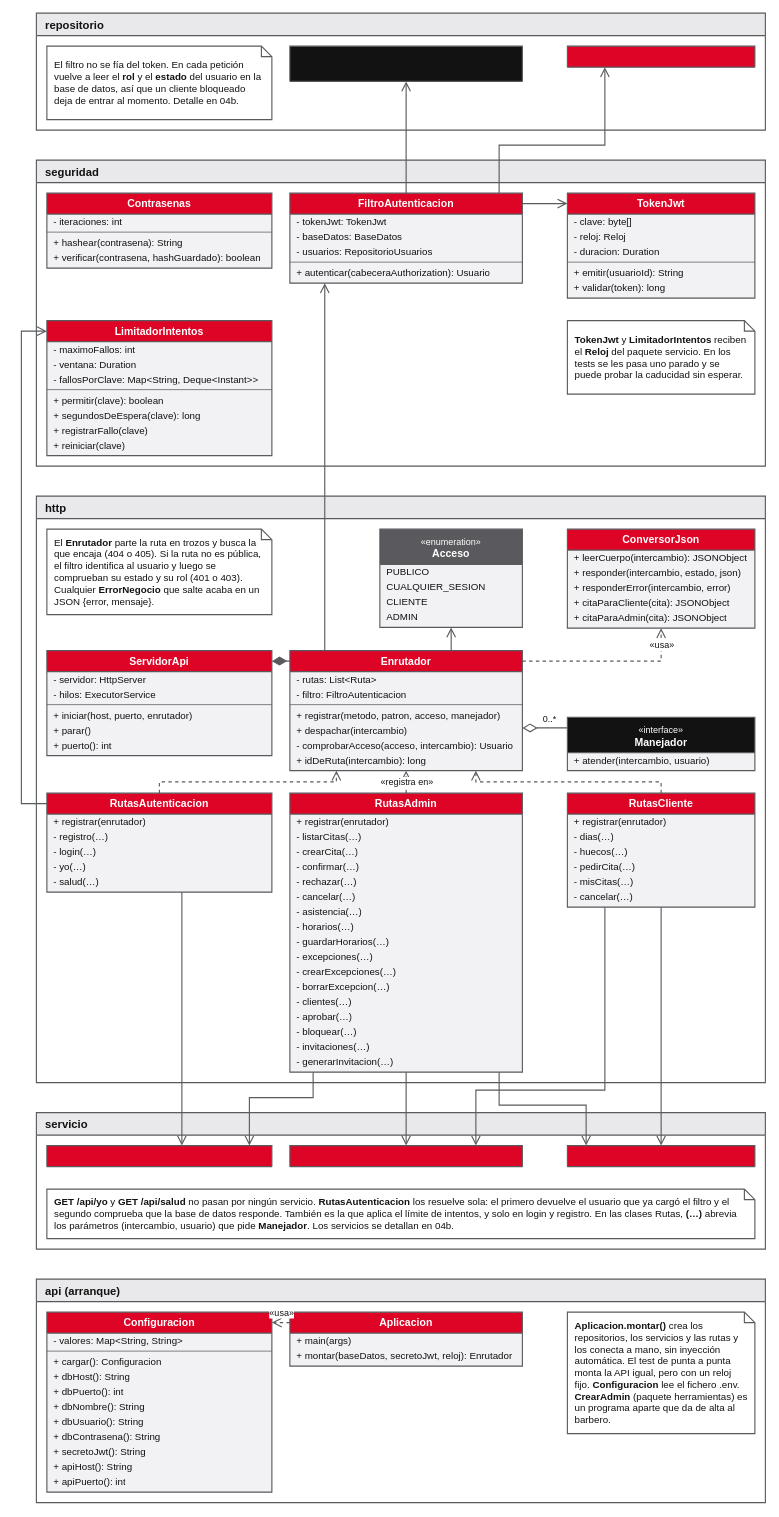
Image size: 779x1517. Some labels were removed from this diagram. The shapes that lost their labels are listed below. From the top down, each one's centre as x and y in pixels, then its label:
pixel 406 63: «interface» RepositorioUsuarios
pixel 660 56: BaseDatos
pixel 159 1156: ServicioUsuarios
pixel 406 1156: ServicioCitas
pixel 660 1156: ServicioHorarios
